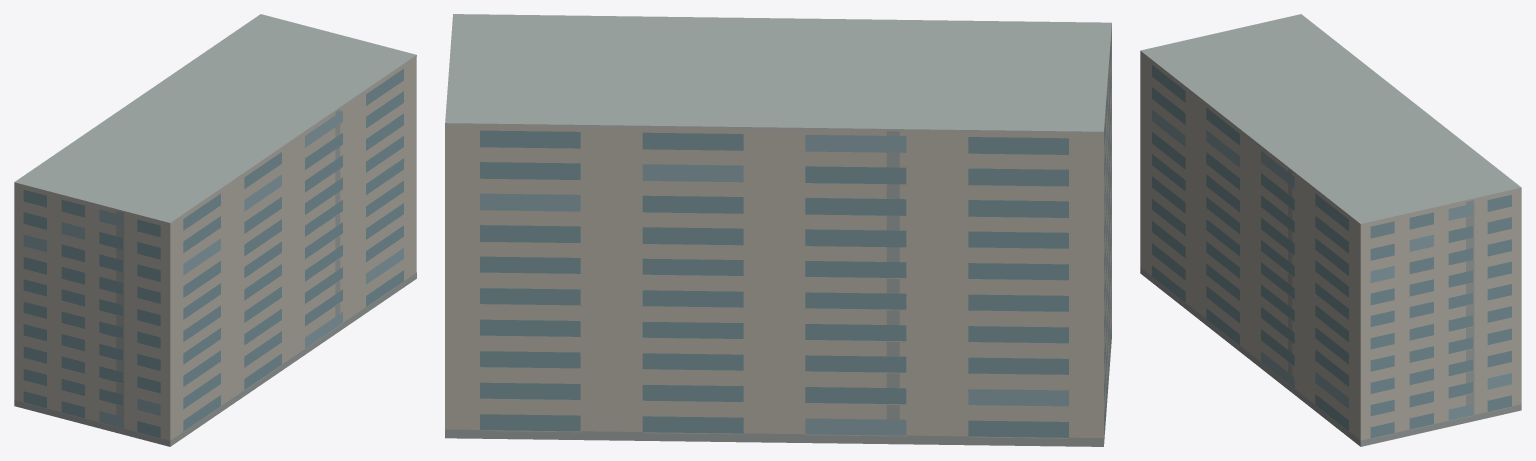
File: residential-805845e4-b220-40d2-97bb-8bc0f5bd6e88.glb
The picture shows the model from 3 angles, left to right: view 1: azimuth 30°, elevation 25°; view 2: azimuth 150°, elevation 25°; view 3: azimuth 270°, elevation 25°; orthographic projection. The views are drawn at different scales.
Visible parts, largest first — view 1: residential-805845e4-b220-40d2-97bb-8bc0f5bd6e88.tmp; view 2: residential-805845e4-b220-40d2-97bb-8bc0f5bd6e88.tmp; view 3: residential-805845e4-b220-40d2-97bb-8bc0f5bd6e88.tmp.
Boxes of the visible parts, x1,y1,x2,y2 form: residential-805845e4-b220-40d2-97bb-8bc0f5bd6e88.tmp: (14,14,416,446); residential-805845e4-b220-40d2-97bb-8bc0f5bd6e88.tmp: (445,14,1111,446); residential-805845e4-b220-40d2-97bb-8bc0f5bd6e88.tmp: (1140,14,1521,446).
Size of the model in its own units: 64.69 by 32 by 49.64.
